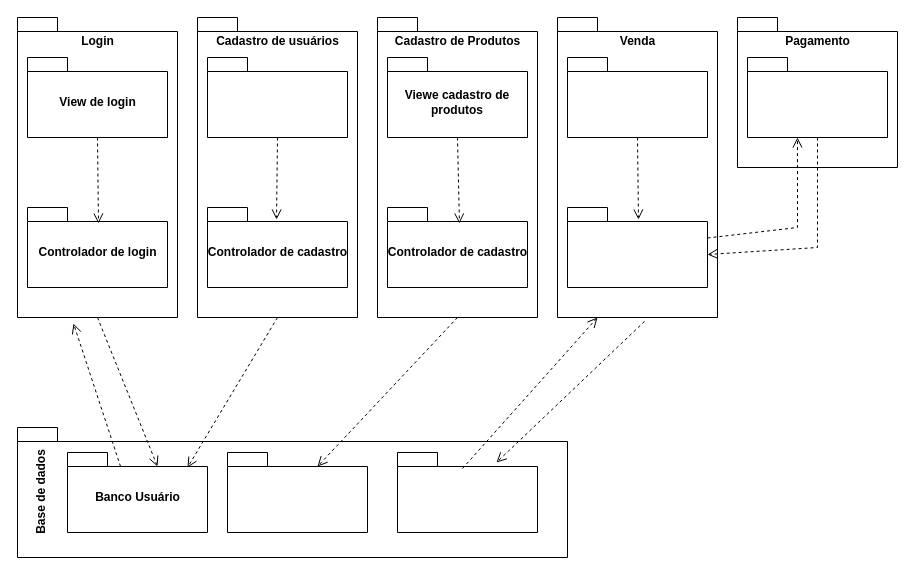
This 915x575 diagram has some shape labels left out. Here are the shapes that lost their labels. From the top down, the centre of each, then its label:
(x=277, y=97): View cadastro de usuário
(x=637, y=97): View de venda
(x=817, y=97): Sistema de pagamento
(x=637, y=247): Controlador de venda (carrinho)
(x=297, y=492): Banco produtos
(x=467, y=492): Banco vendas
